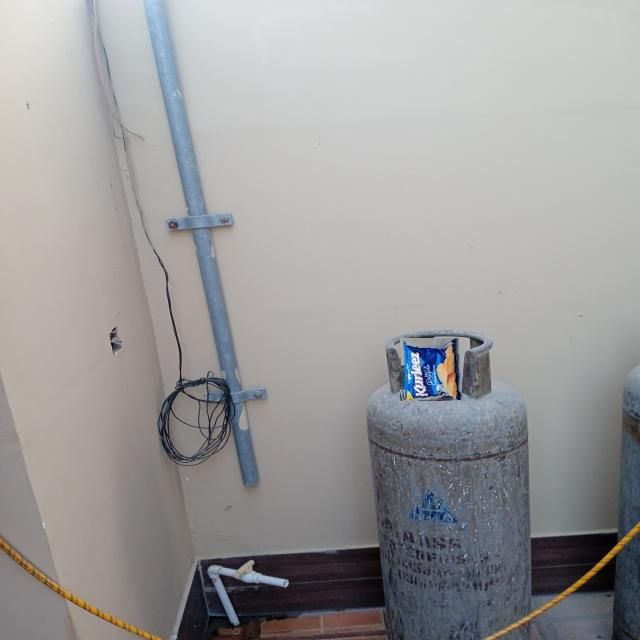Plastic: (399, 339, 461, 400)
